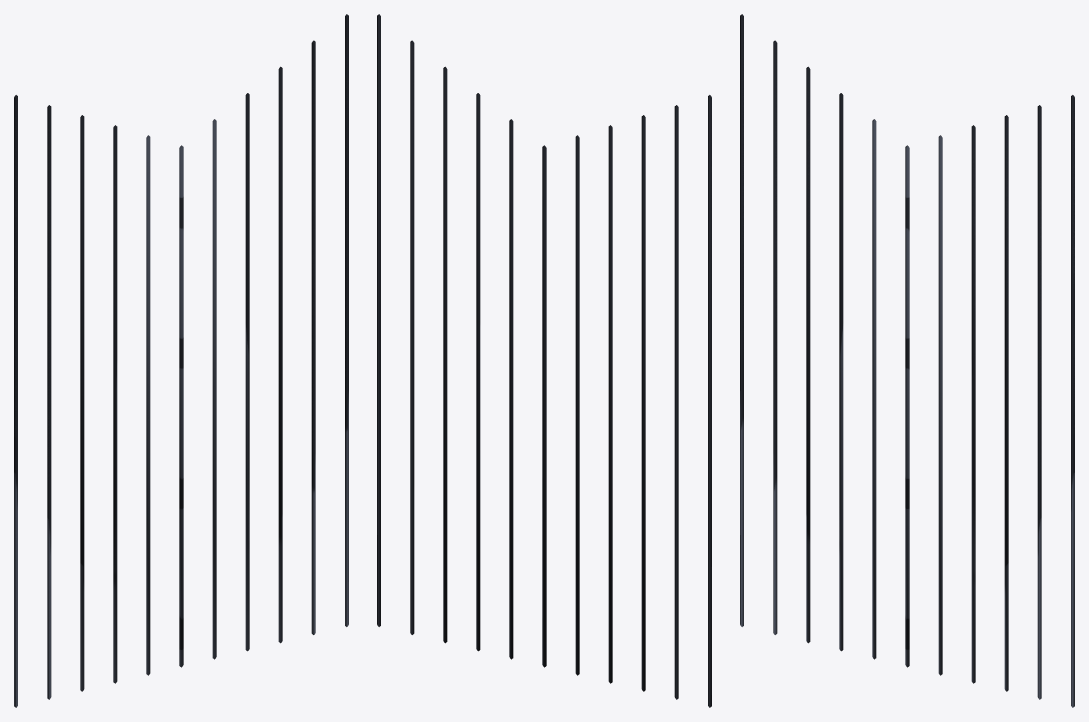
Rendered from Mascarada_Chaleco_Asfalto.fbx.
The picture shows the model from 3 angles, left to right: view 1: azimuth 30°, elevation 25°; view 2: azimuth 150°, elevation 25°; view 3: azimuth 330°, elevation 25°; orthographic projection.
Visible parts, largest first — view 1: Mascarada_Chaleco_Asfalto; view 2: Mascarada_Chaleco_Asfalto; view 3: Mascarada_Chaleco_Asfalto.
Part boxes in pixels (x1,y1,x2,y2): Mascarada_Chaleco_Asfalto: (14, 14, 348, 707); Mascarada_Chaleco_Asfalto: (377, 14, 711, 707); Mascarada_Chaleco_Asfalto: (740, 14, 1074, 707).
Size of the model in its own units: 0.751 by 1.31 by 0.00909.
